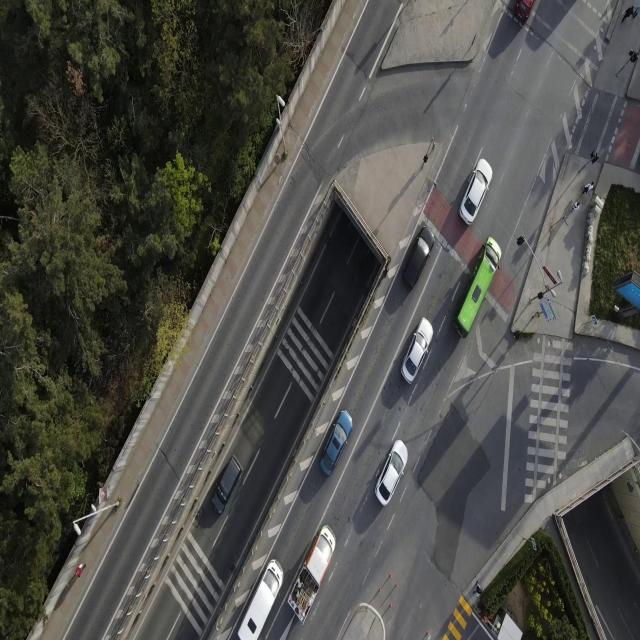p3rson: (621, 4, 634, 24), (581, 180, 594, 196), (75, 560, 86, 578), (570, 200, 580, 212), (632, 5, 640, 19)
